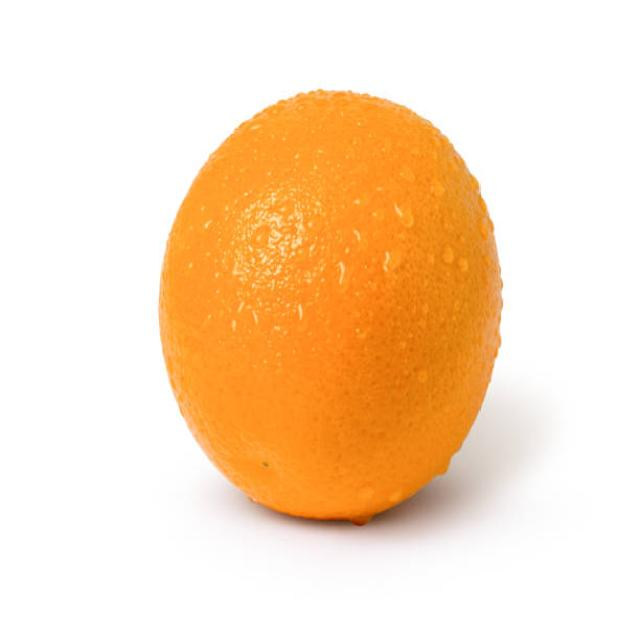Ripe: (154, 77, 509, 526)
